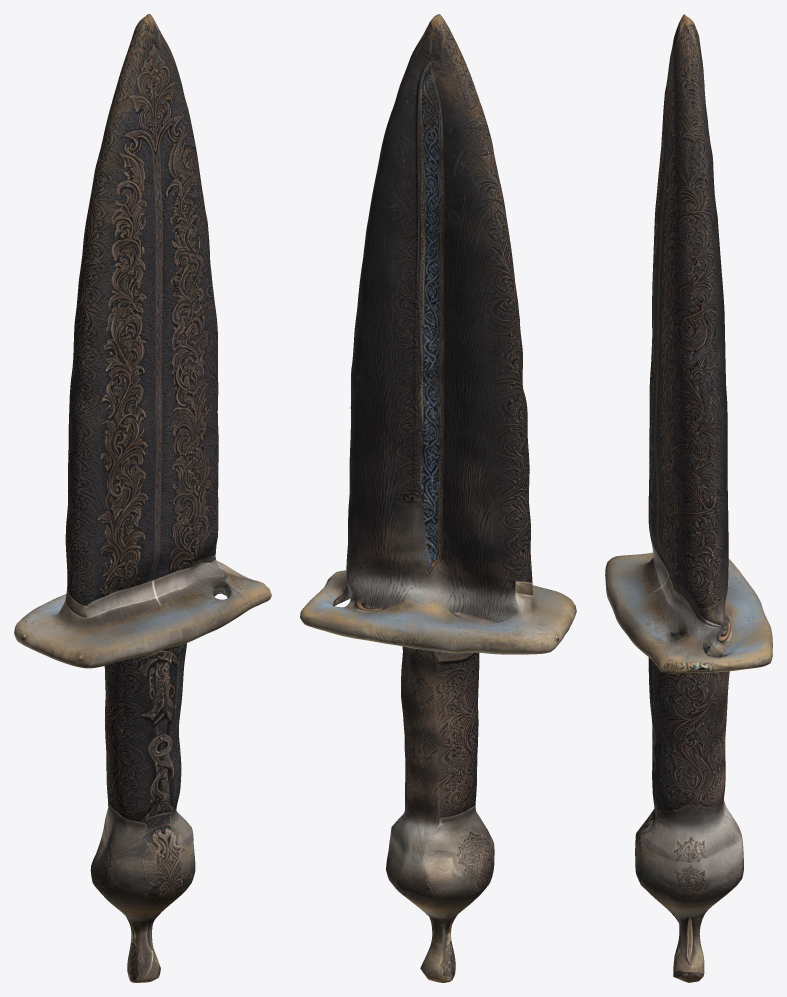
Rendered from swords0.obj.
The picture shows the model from 3 angles, left to right: view 1: azimuth 30°, elevation 25°; view 2: azimuth 150°, elevation 25°; view 3: azimuth 270°, elevation 25°; orthographic projection.
Parts seen in each view (by area): view 1: Mesh_0; view 2: Mesh_0; view 3: Mesh_0.
Part boxes in pixels (bbox=[...]): Mesh_0: bbox=[14, 14, 271, 982]; Mesh_0: bbox=[300, 14, 576, 982]; Mesh_0: bbox=[605, 14, 772, 982].
Size of the model in its own units: 0.3064 by 1.2 by 0.189.
1 material, 1 textured.
